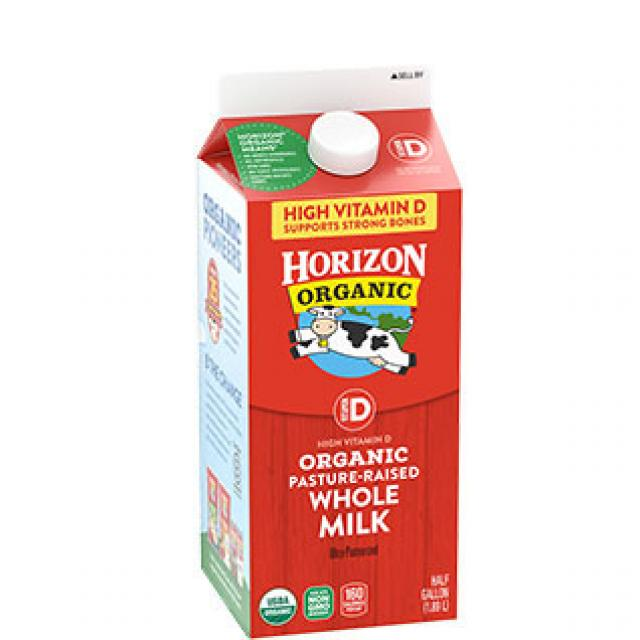non_white_jug: (149, 63, 485, 623)
